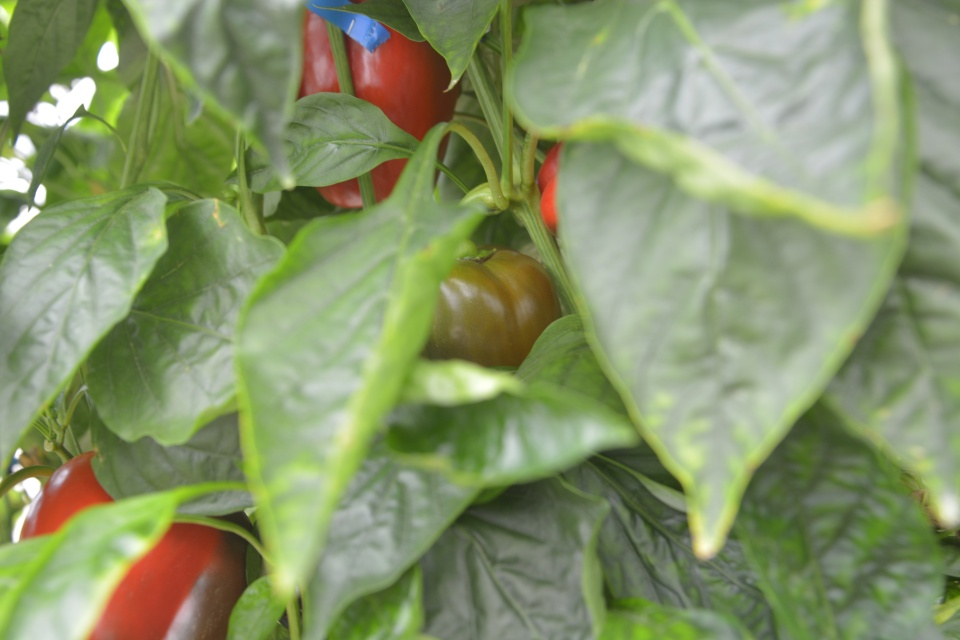fruit: (18, 453, 248, 640), (300, 0, 460, 210), (431, 245, 557, 369)
pedicle: (460, 250, 501, 263)
